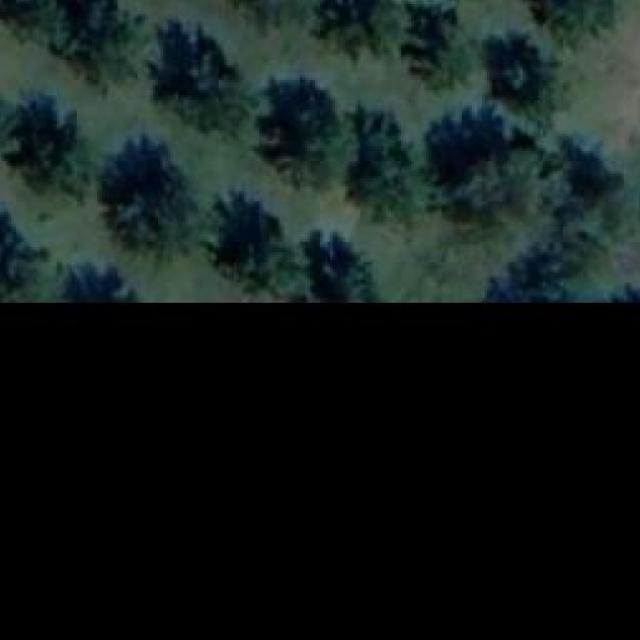Tree: (420, 104, 548, 229), (538, 126, 640, 237), (483, 216, 601, 302), (50, 0, 151, 90), (165, 34, 254, 136), (347, 101, 418, 227), (207, 192, 300, 288), (108, 143, 194, 242), (268, 83, 338, 184), (6, 106, 80, 192), (411, 9, 477, 90), (315, 0, 401, 60), (0, 202, 50, 303), (520, 0, 614, 48), (54, 257, 142, 301), (500, 53, 556, 116), (315, 240, 369, 301)
